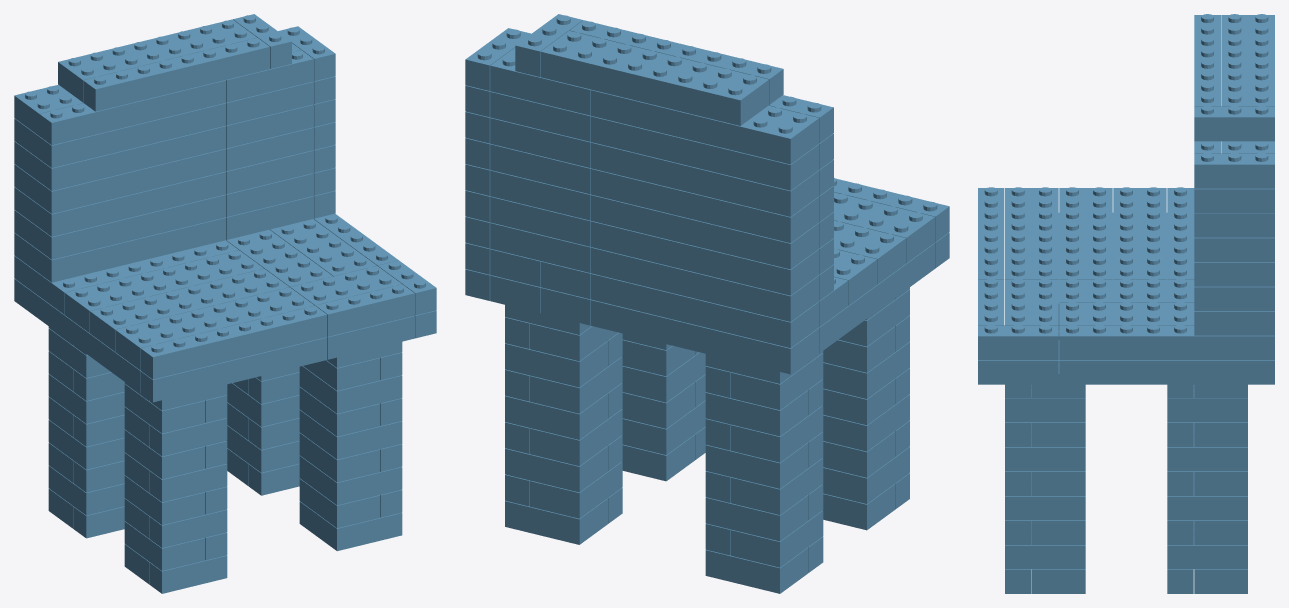
Rendered from 026_bed_L1.glb.
3 renders of one model, left to right at view 1: azimuth 30°, elevation 25°; view 2: azimuth 150°, elevation 25°; view 3: azimuth 270°, elevation 25°, orthographic. The views are drawn at different scales.
Size of the model in its own units: 12.98 by 19.13 by 10.98.
